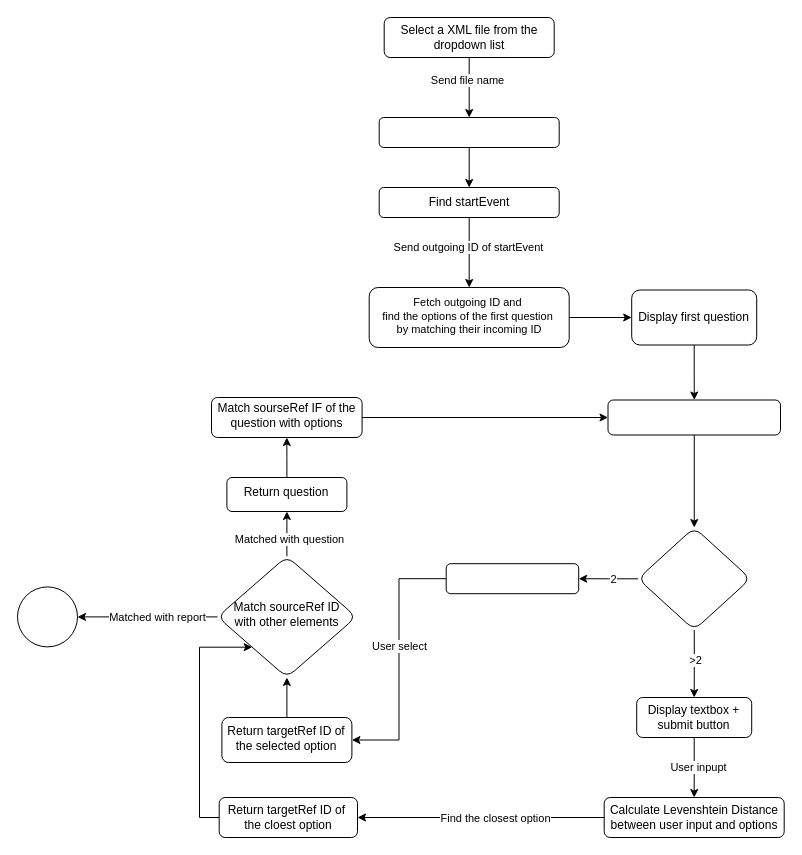
Some shapes in this 802 by 855 pixel diagram are drawn without their labels. Here are the shapes that lost their labels. From the top down, the centre of each, then its label:
the point at 468,132: Parse XML Data
the point at 693,417: Create a list for the found options
the point at 512,578: Display option buttons
the point at 693,578: Number of options
the point at 47,616: Return report
